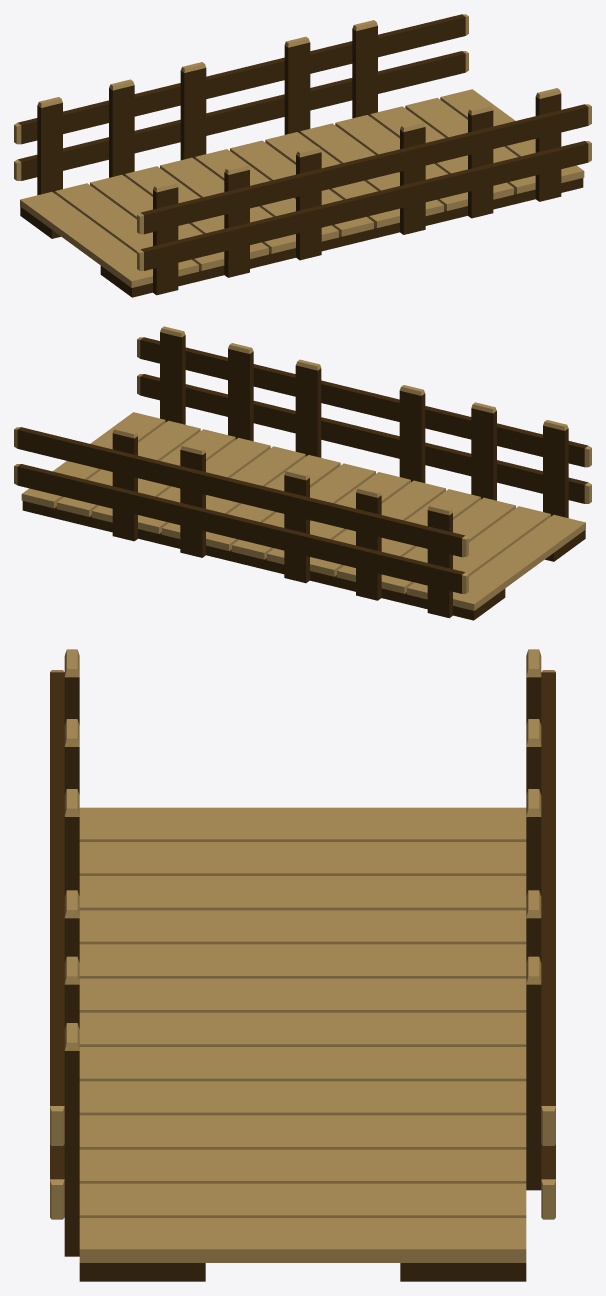
File: SM_Bridge.fbx
The picture shows the model from 3 angles, top to bottom: view 1: azimuth 30°, elevation 25°; view 2: azimuth 150°, elevation 25°; view 3: azimuth 270°, elevation 25°; orthographic projection. The views are drawn at different scales.
Visible parts, largest first — view 1: UpperRail L, LowerRail L, UpperRail R, LowerRail R, FootPlank13, SupportPlankL, FootPlank12, RailSupport4 R, RailSupport3 R, RailSupport2 R, RailSupport6 R, RailSupport5 R (+17 smaller); view 2: UpperRail R, LowerRail R, UpperRail L, LowerRail L, FootPlank13, SupportPlankR, FootPlank12, RailSupport3 L, RailSupport4 L, RailSupport2 L, RailSupport1 L, RailSupport5 L (+17 smaller); view 3: FootPlank1, FootPlank9, FootPlank4, FootPlank7, FootPlank8, FootPlank10, FootPlank11, FootPlank13, FootPlank2, FootPlank3, FootPlank5, FootPlank6 (+18 smaller).
Boxes of the visible parts, x1=… form: UpperRail L: x1=137, y1=104, x2=591, y2=234; LowerRail L: x1=137, y1=141, x2=591, y2=270; UpperRail R: x1=14, y1=14, x2=468, y2=144; LowerRail R: x1=14, y1=51, x2=468, y2=180; FootPlank13: x1=20, y1=192, x2=152, y2=287; SupportPlankL: x1=100, y1=178, x2=583, y2=297; FootPlank12: x1=55, y1=183, x2=198, y2=276; RailSupport4 R: x1=180, y1=62, x2=206, y2=160; RailSupport3 R: x1=284, y1=36, x2=310, y2=134; RailSupport2 R: x1=352, y1=20, x2=377, y2=118; RailSupport6 R: x1=37, y1=97, x2=62, y2=195; RailSupport5 R: x1=109, y1=79, x2=134, y2=177; UpperRail R: x1=14, y1=427, x2=468, y2=557; LowerRail R: x1=14, y1=464, x2=468, y2=593; UpperRail L: x1=137, y1=337, x2=591, y2=467; LowerRail L: x1=137, y1=374, x2=591, y2=503; FootPlank13: x1=453, y1=514, x2=585, y2=610; SupportPlankR: x1=22, y1=501, x2=505, y2=620; FootPlank12: x1=407, y1=506, x2=550, y2=599; RailSupport3 L: x1=295, y1=359, x2=321, y2=457; RailSupport4 L: x1=399, y1=385, x2=425, y2=482; RailSupport2 L: x1=228, y1=343, x2=253, y2=441; RailSupport1 L: x1=160, y1=326, x2=185, y2=424; RailSupport5 L: x1=471, y1=402, x2=496, y2=500; FootPlank1: x1=79, y1=1218, x2=526, y2=1262; FootPlank9: x1=79, y1=944, x2=526, y2=978; FootPlank4: x1=79, y1=1115, x2=526, y2=1149; FootPlank7: x1=79, y1=1012, x2=526, y2=1046; FootPlank8: x1=79, y1=978, x2=526, y2=1012; FootPlank10: x1=79, y1=910, x2=526, y2=944; FootPlank11: x1=79, y1=876, x2=526, y2=910; FootPlank13: x1=79, y1=807, x2=526, y2=841; FootPlank2: x1=79, y1=1183, x2=526, y2=1217; FootPlank3: x1=79, y1=1149, x2=526, y2=1183; FootPlank5: x1=79, y1=1081, x2=526, y2=1115; FootPlank6: x1=79, y1=1047, x2=526, y2=1081.
Bounding box in the file's own units: 2813 × 632 × 1360.
